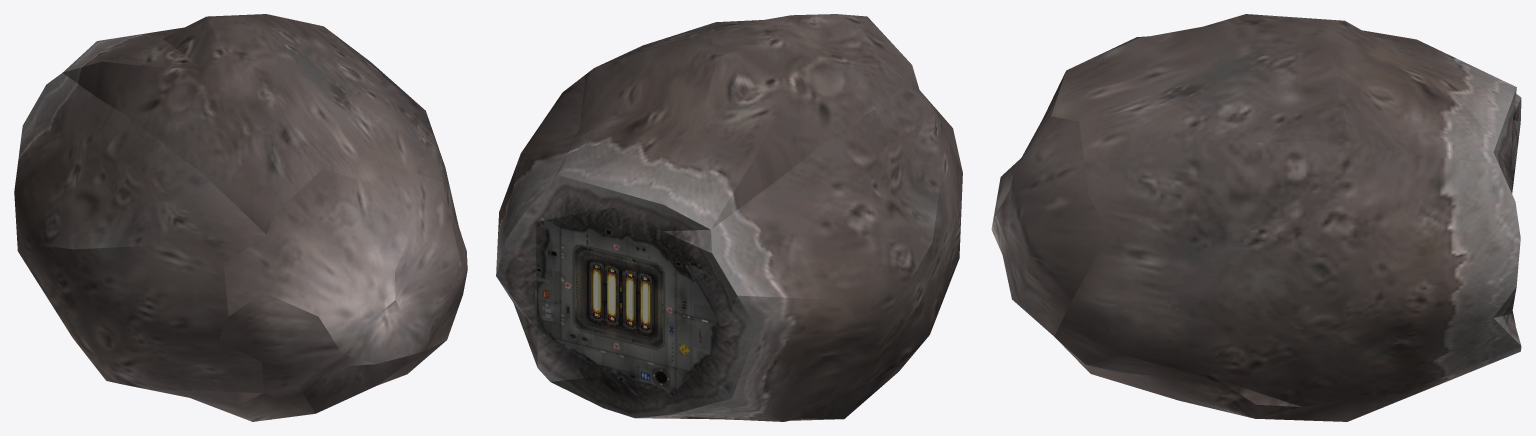
The model's file is Asteroid.obj.
3 renders of one model, left to right at view 1: azimuth 30°, elevation 25°; view 2: azimuth 150°, elevation 25°; view 3: azimuth 270°, elevation 25°, orthographic. The views are drawn at different scales.
Parts seen in each view (by area): view 1: HeadShotAsteroid; view 2: HeadShotAsteroid; view 3: HeadShotAsteroid.
Part boxes in pixels (x1,y1,x2,y2): HeadShotAsteroid: (14, 14, 467, 421); HeadShotAsteroid: (496, 14, 962, 421); HeadShotAsteroid: (991, 14, 1521, 421).
Size of the model in its own units: 4.01 by 3.62 by 4.67.
8 materials, 8 textured.
